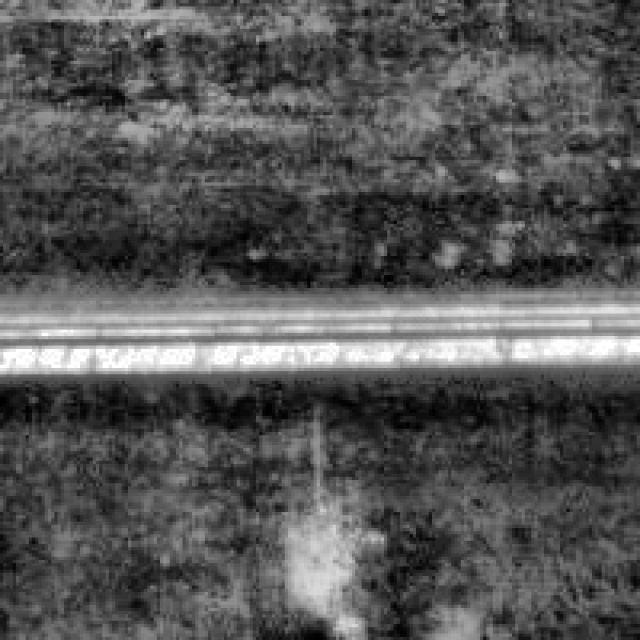Inclusion: (3, 269, 640, 384)
